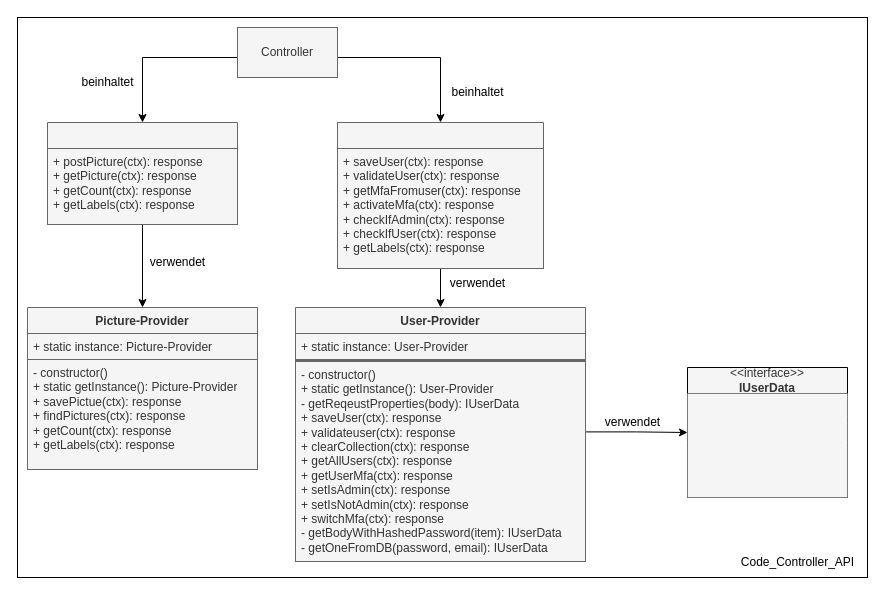
This 885x595 diagram has some shape labels left out. The shapes that lost their labels are listed below. From the top down, each one's box as (x1, y1, x2, y2) in pixels, then its label:
(46, 122, 238, 224): PictureController
(336, 122, 544, 268): UserController
(687, 393, 847, 419): + email: string
(687, 419, 847, 445): + password: string
(687, 445, 847, 497): + mfa: boolean | null + isAdmin: boolean | null
